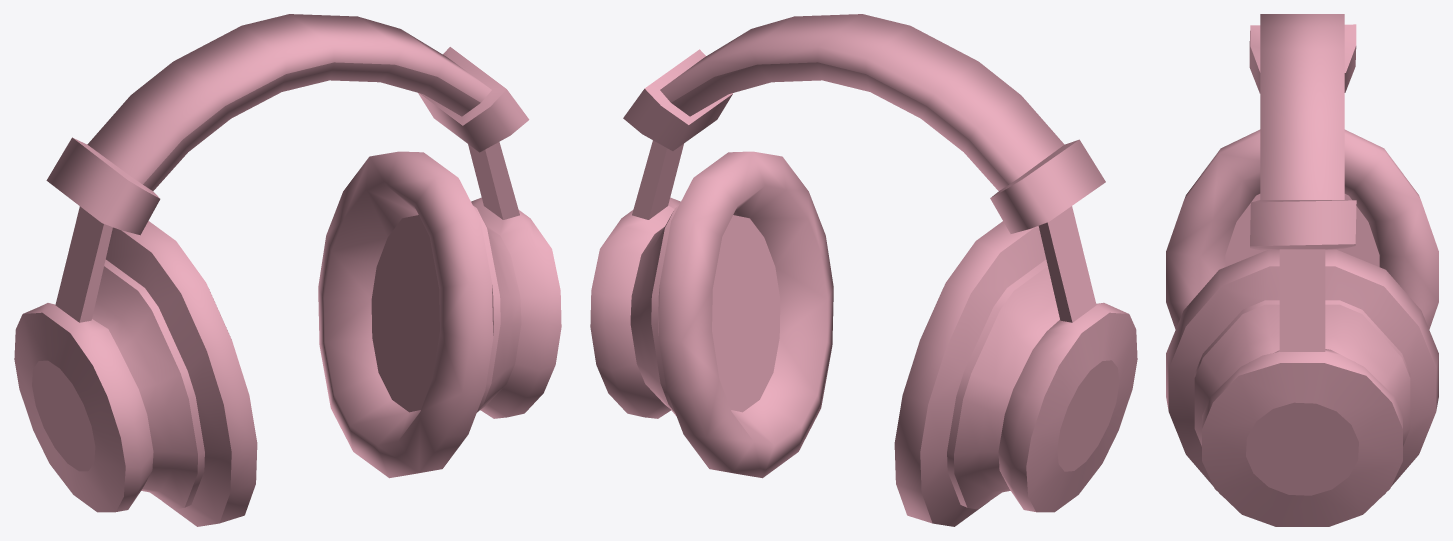
The model's file is Headphones.fbx.
3 renders of one model, left to right at view 1: azimuth 30°, elevation 25°; view 2: azimuth 150°, elevation 25°; view 3: azimuth 270°, elevation 25°, orthographic. The views are drawn at different scales.
Parts seen in each view (by area): view 1: Headphones; view 2: Headphones; view 3: Headphones.
Boxes of the visible parts, x1=… form: Headphones: x1=14, y1=14, x2=561, y2=526; Headphones: x1=590, y1=14, x2=1137, y2=526; Headphones: x1=1166, y1=14, x2=1438, y2=526.
Size of the model in its own units: 28.63 by 26.52 by 15.36.
